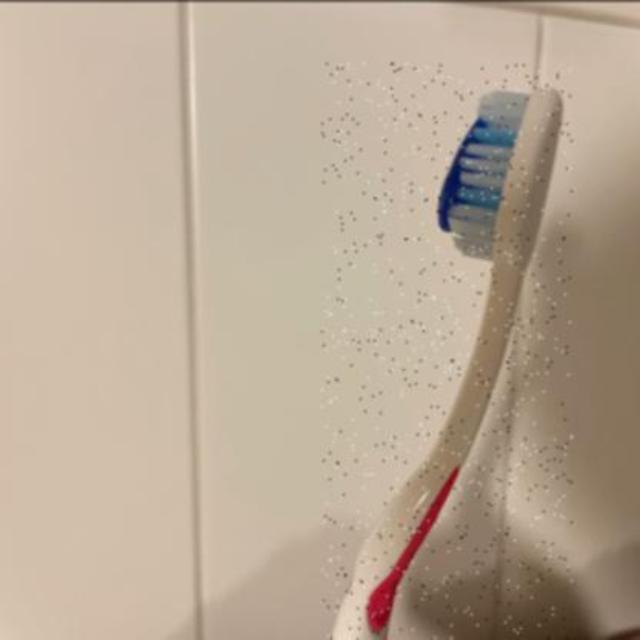toothbrush: (322, 62, 572, 640)
